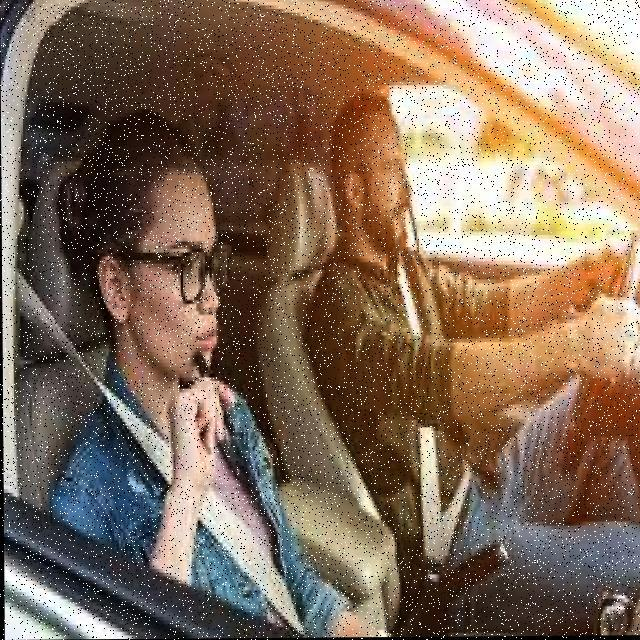seatbelt: (70, 264, 296, 640), (358, 234, 478, 605)
